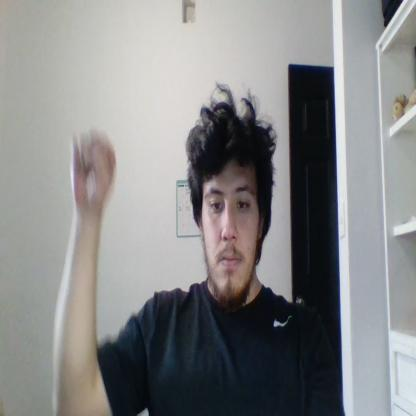S: (69, 130, 116, 211)
